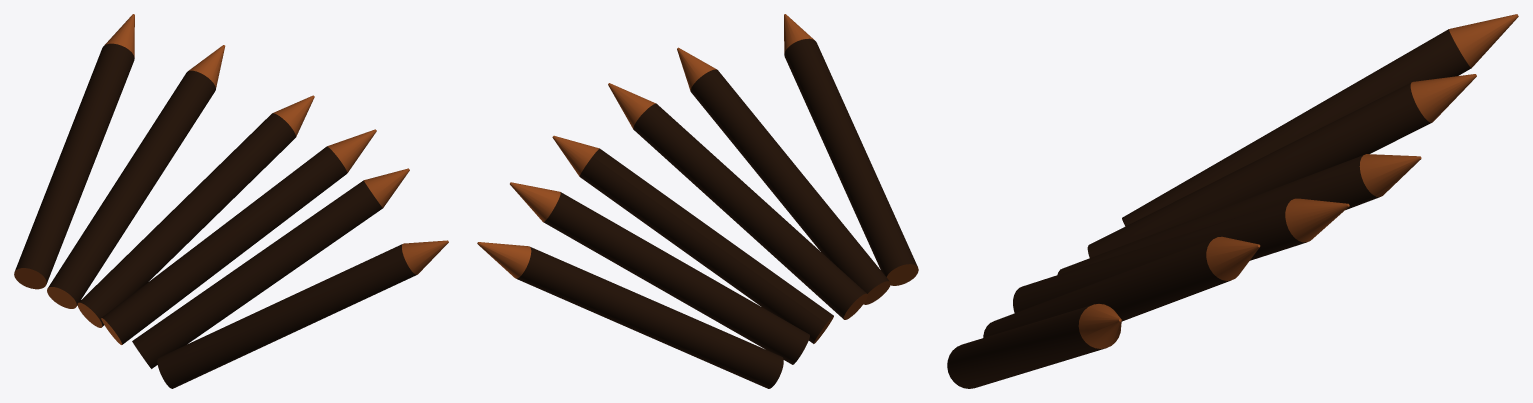
Rendered from wooden_spikes_stuck.FBX.
3 renders of one model, left to right at view 1: azimuth 30°, elevation 25°; view 2: azimuth 150°, elevation 25°; view 3: azimuth 330°, elevation 25°, orthographic. The views are drawn at different scales.
Parts seen in each view (by area): view 1: Loft-Extrusion017; view 2: Loft-Extrusion017; view 3: Loft-Extrusion017.
Part boxes in pixels (x1=…): Loft-Extrusion017: x1=14, y1=14, x2=448, y2=388; Loft-Extrusion017: x1=477, y1=14, x2=918, y2=388; Loft-Extrusion017: x1=947, y1=14, x2=1518, y2=388.
Bounding box in the file's own units: 0.7752 × 1.56 × 0.4761.
